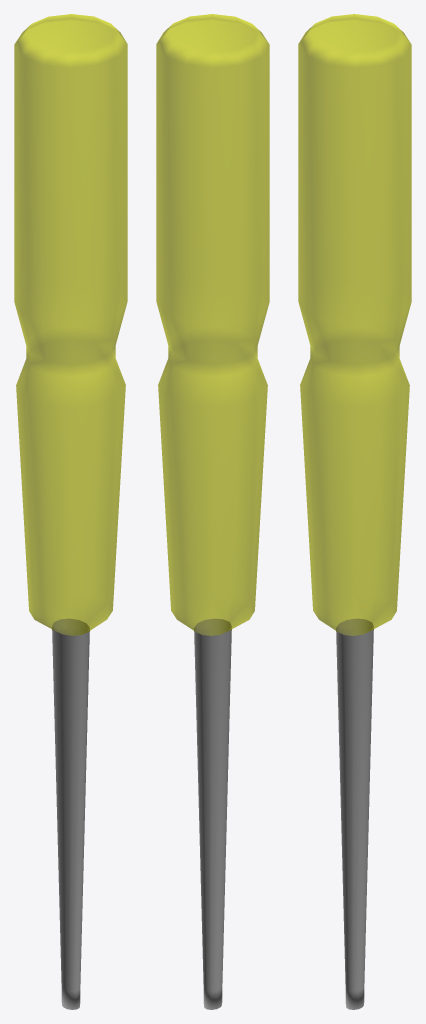
File: tester.fbx
3 views of the same model, side by side, from view 1: azimuth 30°, elevation 25°; view 2: azimuth 150°, elevation 25°; view 3: azimuth 330°, elevation 25° (orthographic).
Parts seen in each view (by area): view 1: tester; view 2: tester; view 3: tester.
Part boxes in pixels (<box>): tester: <box>14,14,127,1009</box>; tester: <box>156,14,269,1009</box>; tester: <box>298,14,411,1009</box>.
Size of the model in its own units: 3.25 by 30.52 by 3.18.
